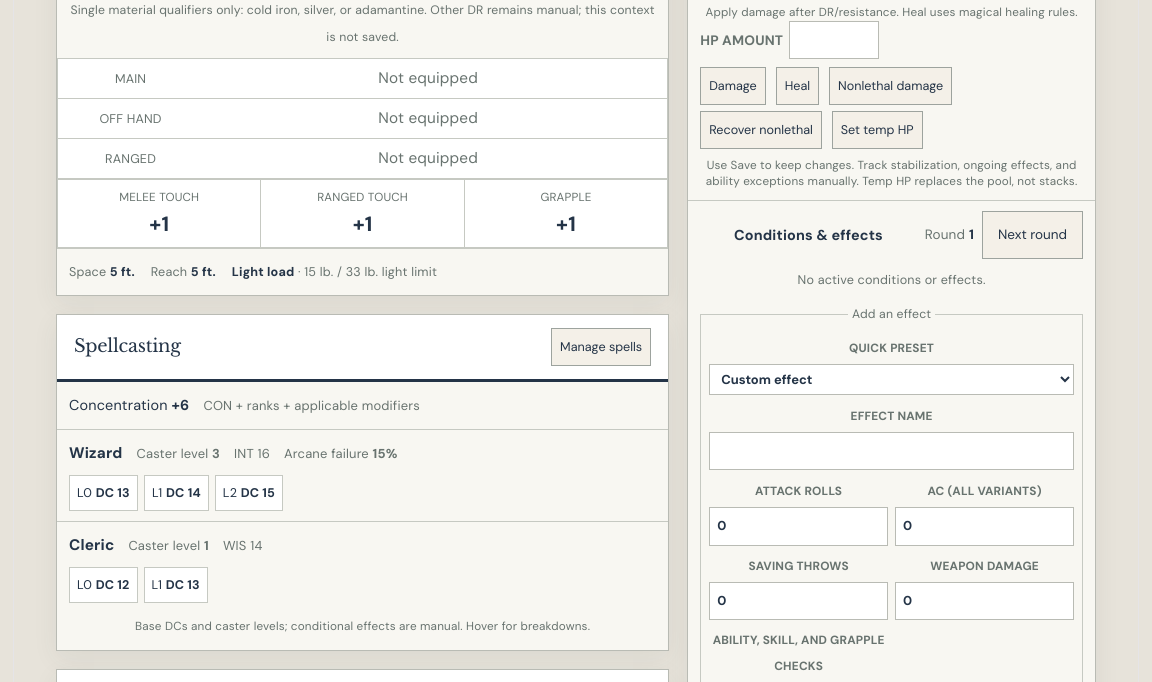
Test case: casting summary › opens existing spell controls and keeps the spell sheet's DCs and failure consistent
(page scrolled)
Expected: the text "DC 15" is shown, [241,485,275,501]
Click the button "Manage spells": (601, 347) [551,328,651,366]
(page scrolled)
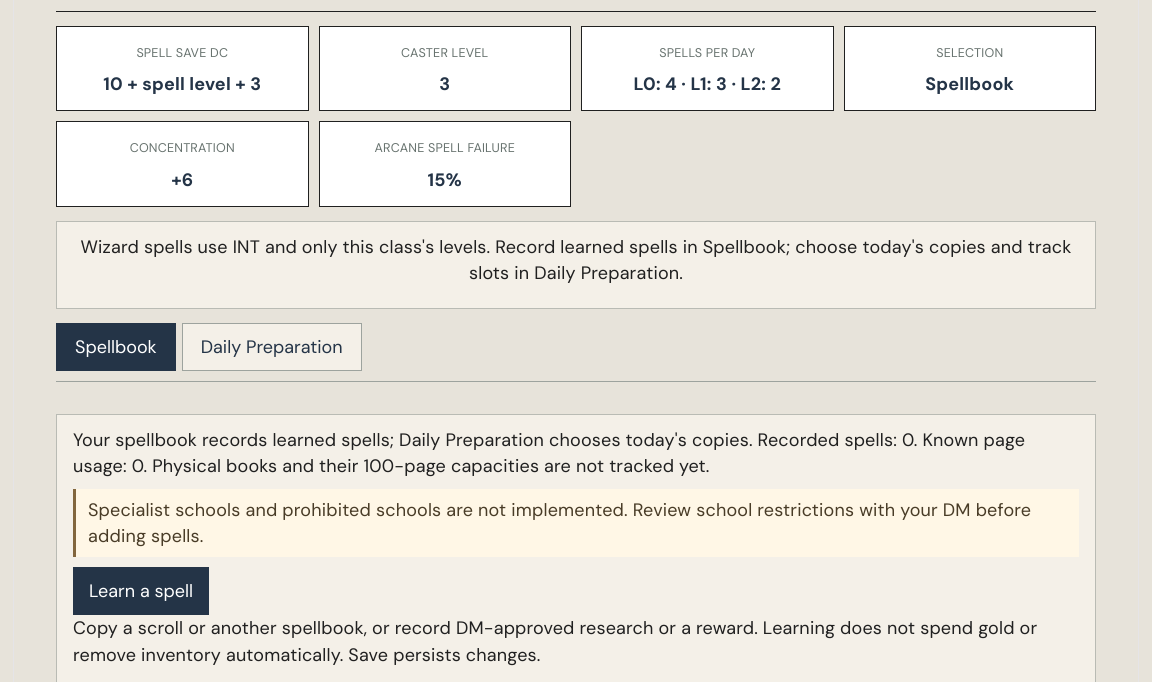
Expected: the text "15%" is shown, [428,168,462,192]
Click the tab "Daily Preparation": (272, 347) [182,323,362,371]
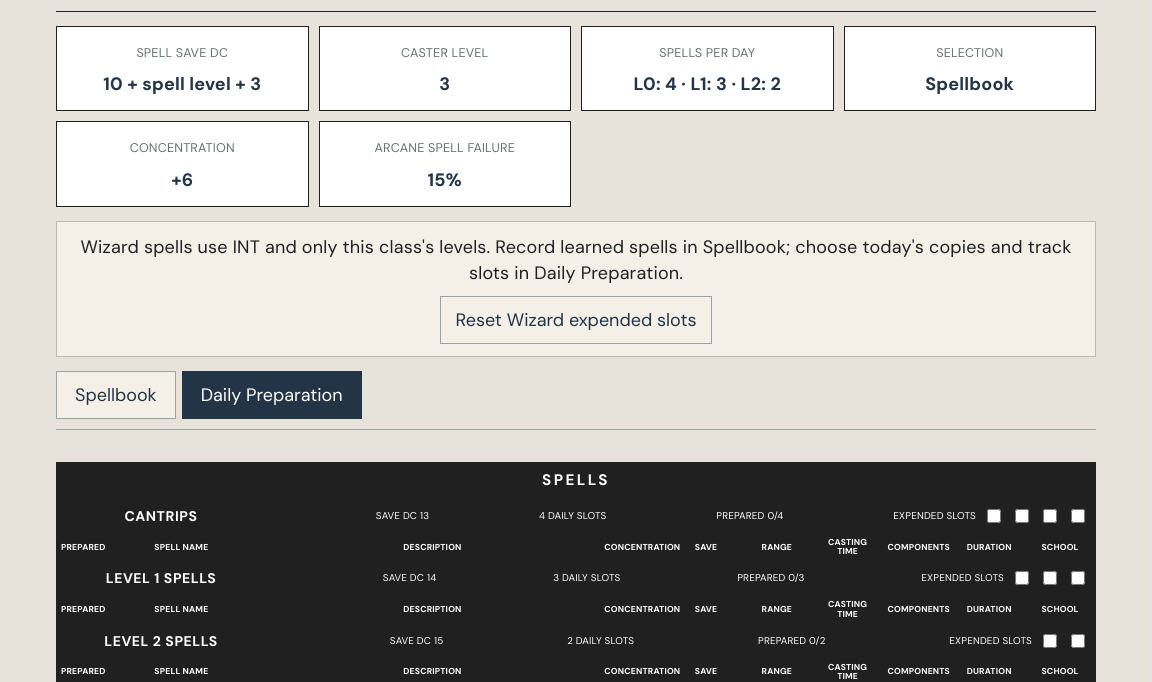
Result: the text "Save DC 15" is shown at [390,634,443,647]
